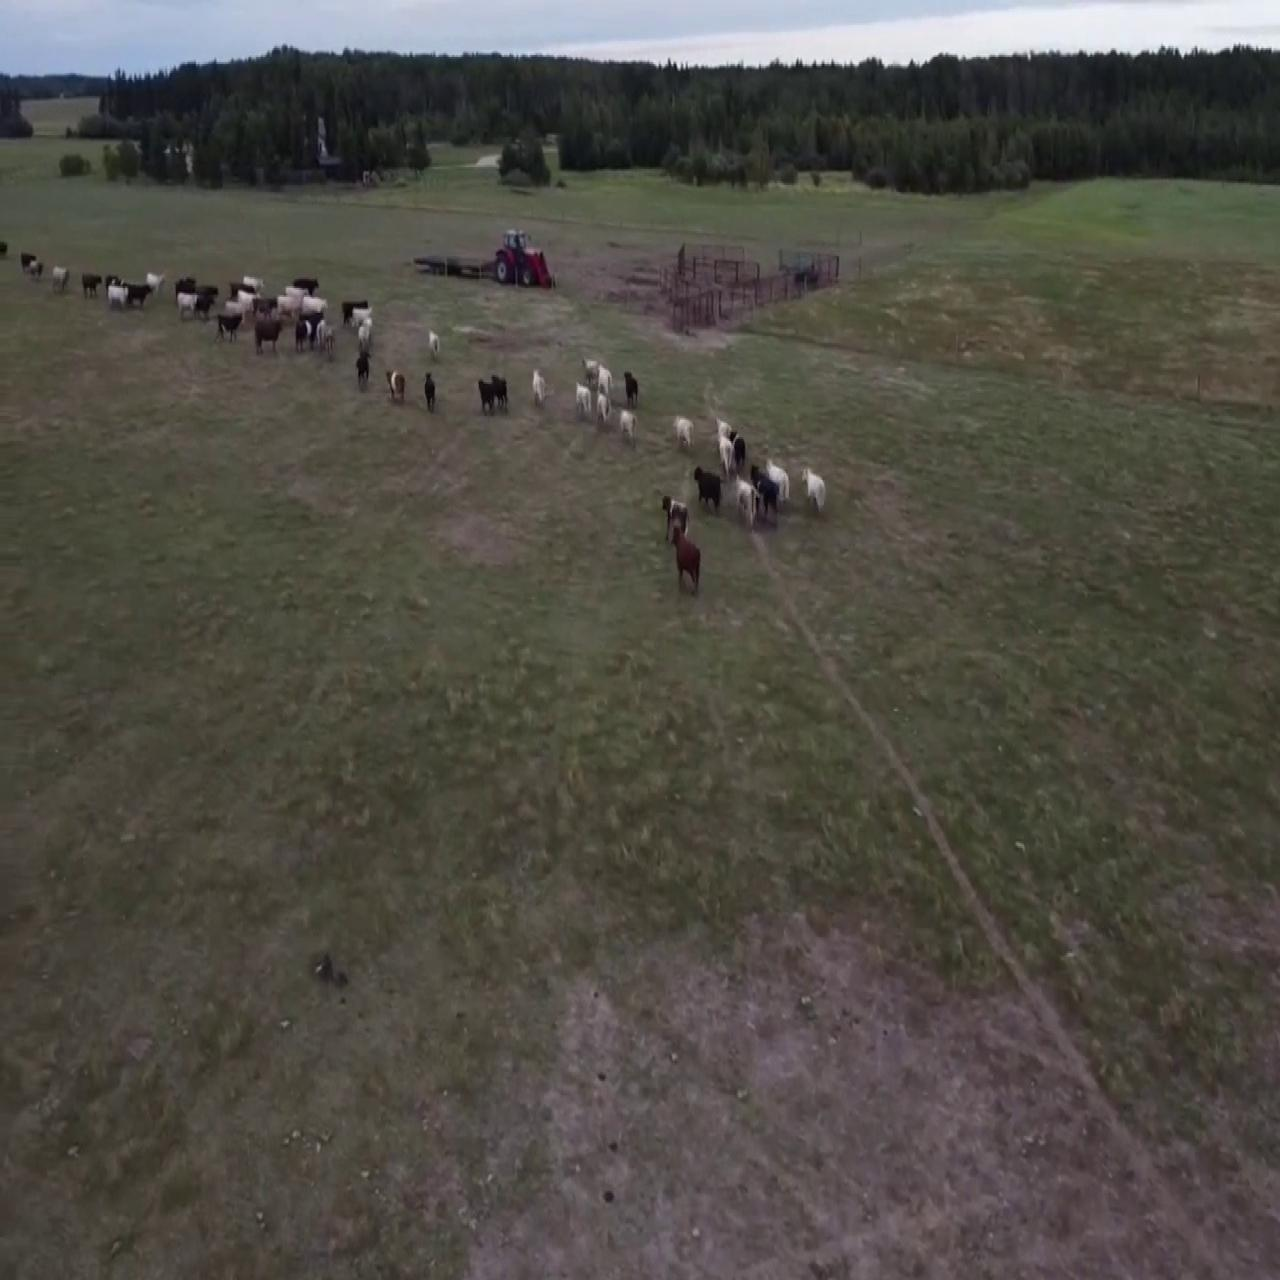cow: (692, 459, 727, 516), (751, 462, 779, 532), (674, 532, 703, 597), (251, 314, 285, 361), (478, 369, 512, 414), (666, 493, 693, 547), (731, 478, 760, 530), (667, 414, 696, 456), (572, 369, 593, 425), (803, 465, 824, 519), (765, 450, 788, 498), (383, 365, 407, 407), (618, 402, 638, 450), (526, 366, 549, 407), (717, 433, 736, 474), (176, 293, 198, 327), (597, 390, 613, 436), (427, 325, 444, 365), (421, 370, 437, 410), (597, 363, 613, 397)
